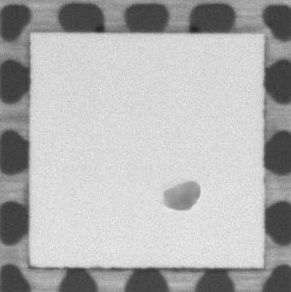DIE_INK: (156, 175, 204, 217)
